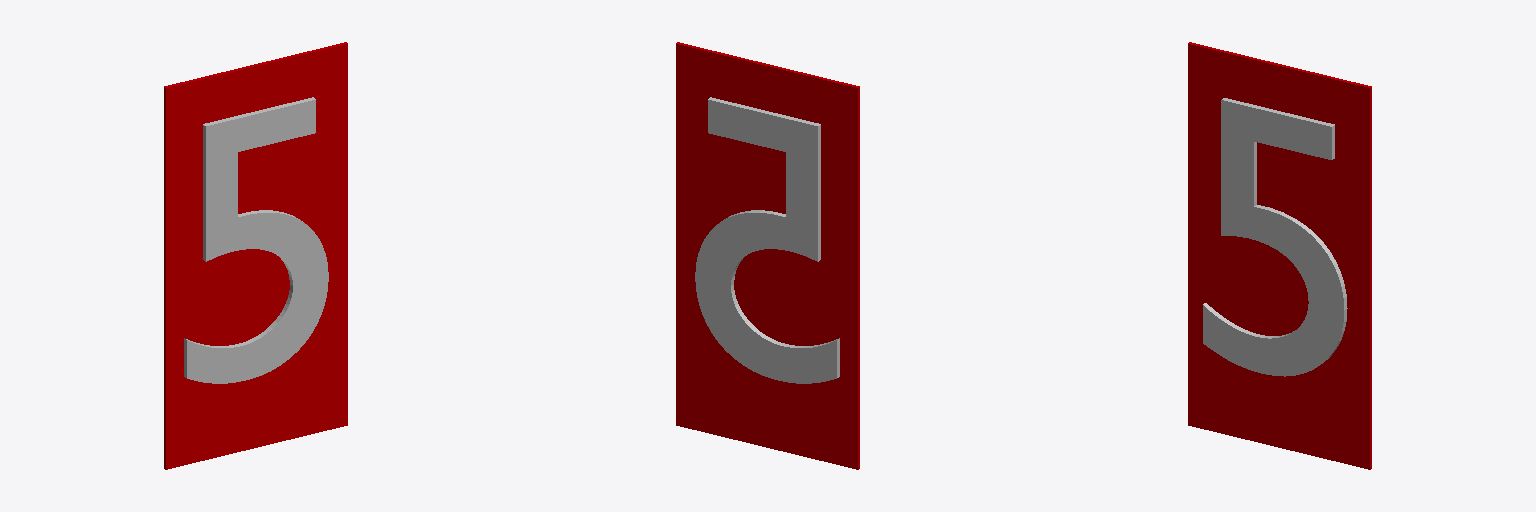
The model's file is room5.obj.
3 renders of one model, left to right at view 1: azimuth 30°, elevation 25°; view 2: azimuth 150°, elevation 25°; view 3: azimuth 330°, elevation 25°, orthographic.
Parts seen in each view (by area): view 1: Cube, Text; view 2: Cube, Text; view 3: Cube, Text.
Part boxes in pixels (x1,y1,x2,y2): Cube: (164,42,347,469); Text: (184,97,328,383); Cube: (676,42,859,469); Text: (695,97,839,383); Cube: (1188,42,1371,469); Text: (1203,98,1347,376).
Bounding box in the file's own units: 1 × 2 × 0.08.